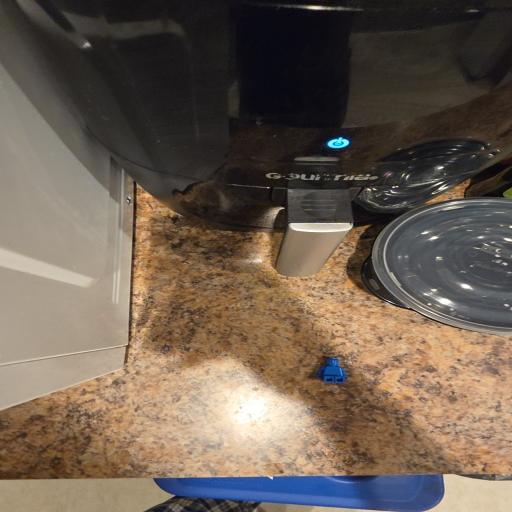Blue: (316, 358, 347, 383)
